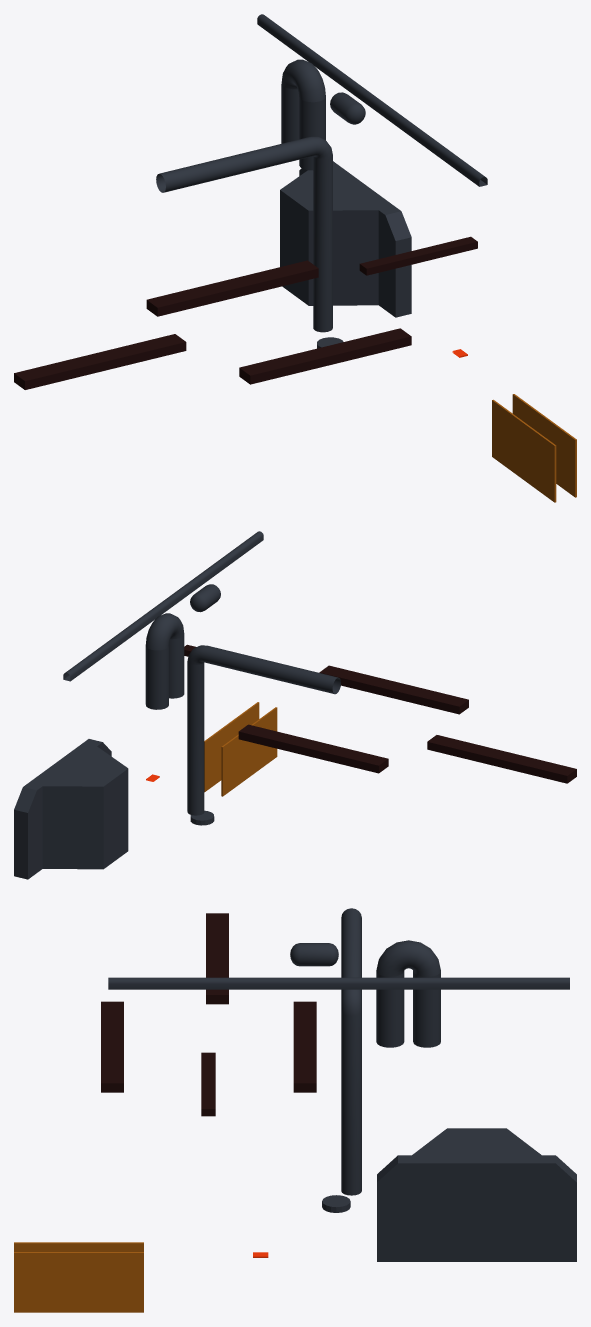
3 views of the same model, one above another, from view 1: azimuth 30°, elevation 25°; view 2: azimuth 150°, elevation 25°; view 3: azimuth 270°, elevation 25° (orthographic). The views are drawn at different scales.
Parts seen in each view (by area): view 1: Box505; view 2: Box505; view 3: Box505.
Part boxes in pixels (x1,y1,x2,y2): Box505: [14, 14, 576, 502]; Box505: [14, 531, 576, 879]; Box505: [14, 908, 576, 1312].
Size of the model in its own units: 6962 by 4493 by 6970.
